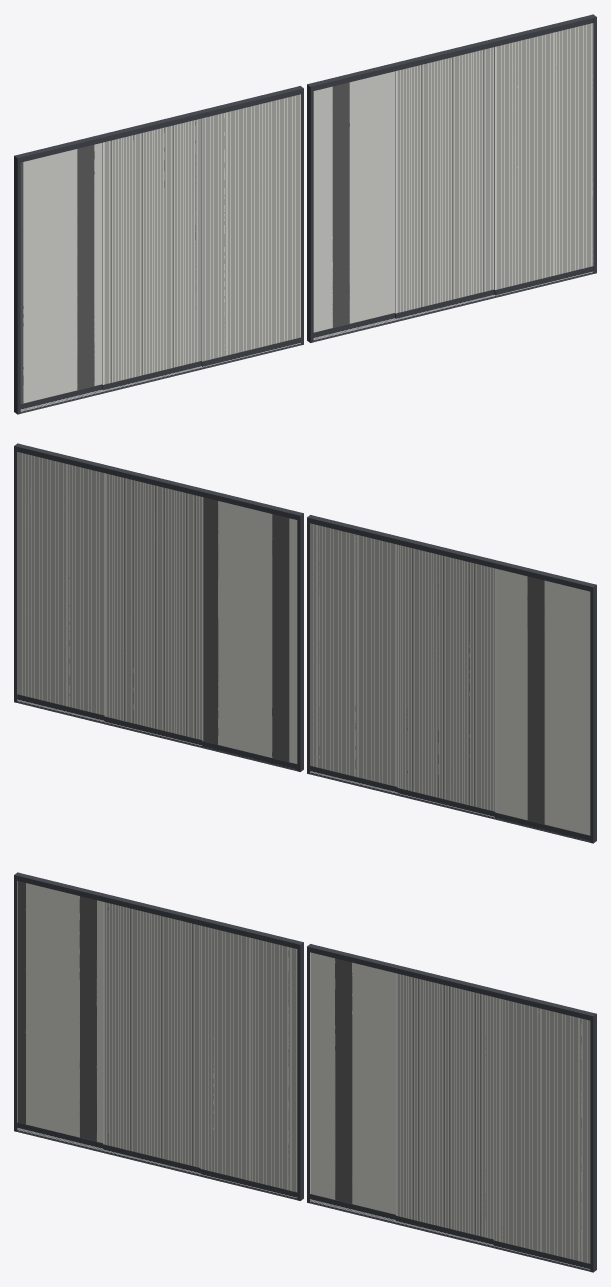
File: nebbiolo_sliding_door_front_600_350.glb
3 views of the same model, one above another, from view 1: azimuth 30°, elevation 25°; view 2: azimuth 150°, elevation 25°; view 3: azimuth 330°, elevation 25° (orthographic).
Parts seen in each view (by area): view 1: sliding_door_front_600_350; view 2: sliding_door_front_600_350; view 3: sliding_door_front_600_350.
Boxes of the visible parts, <box> form: sliding_door_front_600_350: <box>14,14,596,414</box>; sliding_door_front_600_350: <box>14,443,596,843</box>; sliding_door_front_600_350: <box>14,872,596,1272</box>.
Bounding box in the file's own units: 5.91 × 2.5 × 0.065.
Materials: 3 (2 with a texture image).
